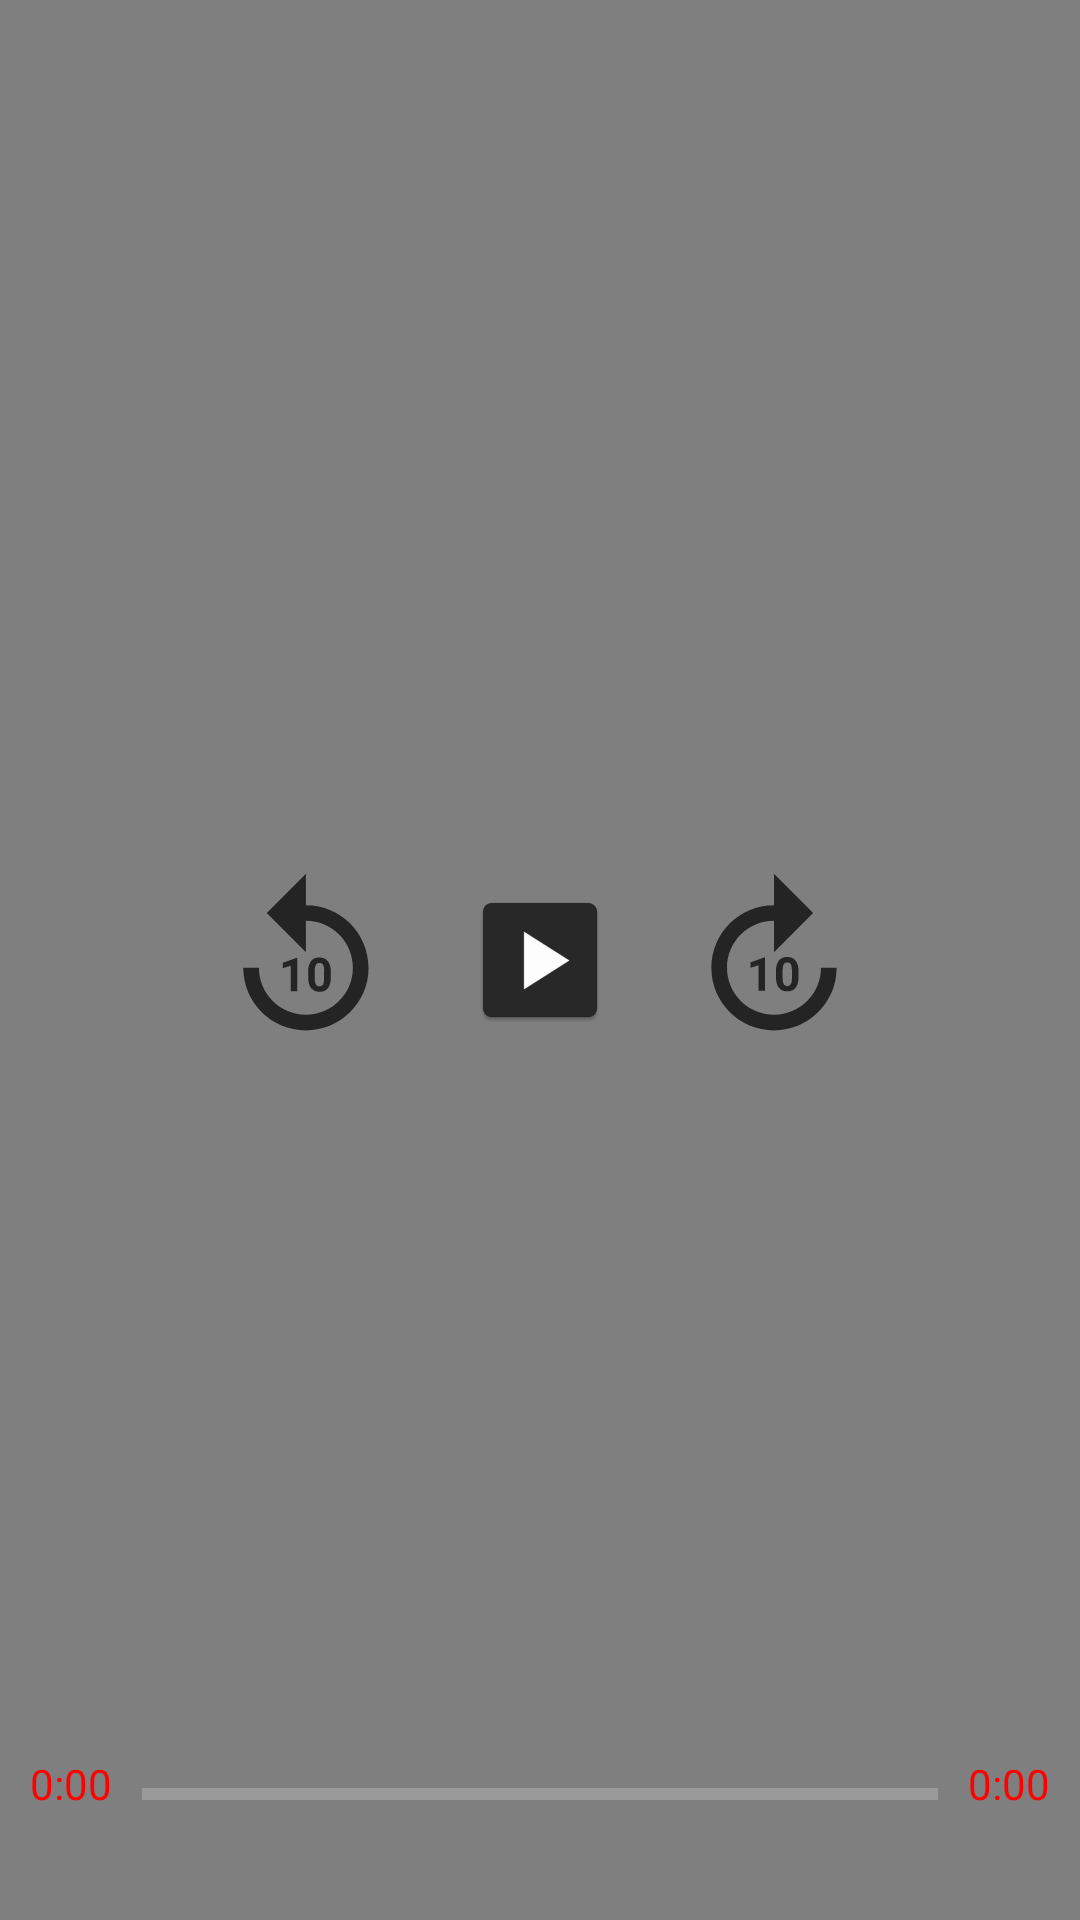

Icons on this 1080 × 1920 Android screen, each with its box as (x1, y1, x2, y2):
backward: (243, 874, 369, 1031)
forward: (711, 874, 837, 1031)
play: (483, 903, 598, 1018)
